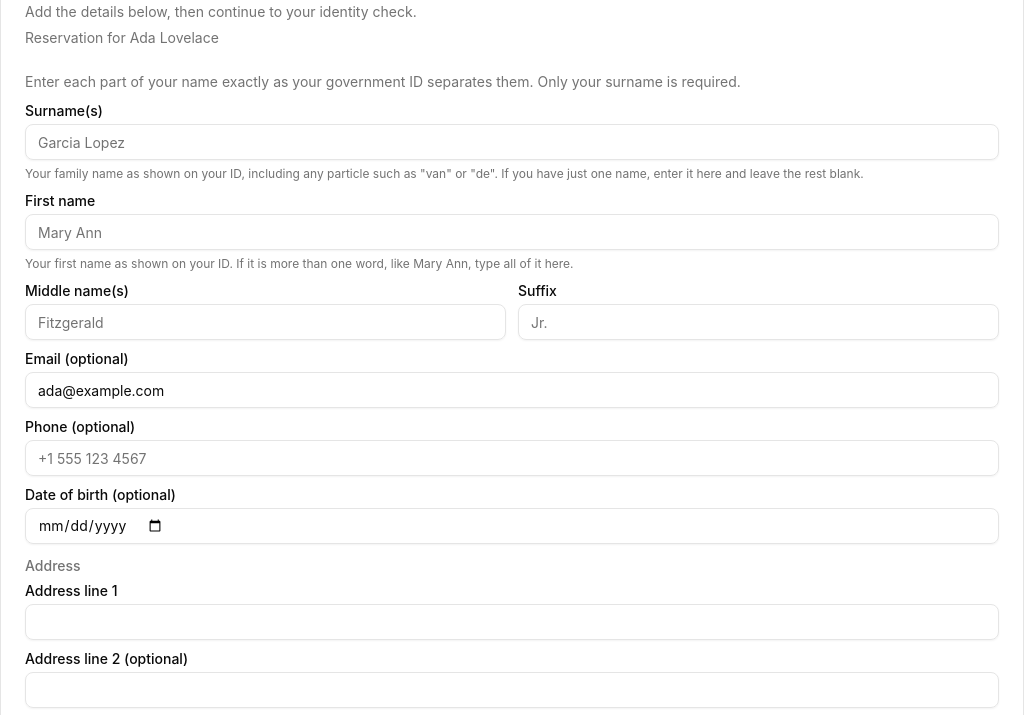
Test case: CheckInCollectForm › names the boxes to fill on a name_components_required rejection
The image size is (1024, 715).
Type "Lovelace" into the field labelled "Surname(s)" at (512, 142), box [25,124,999,160]
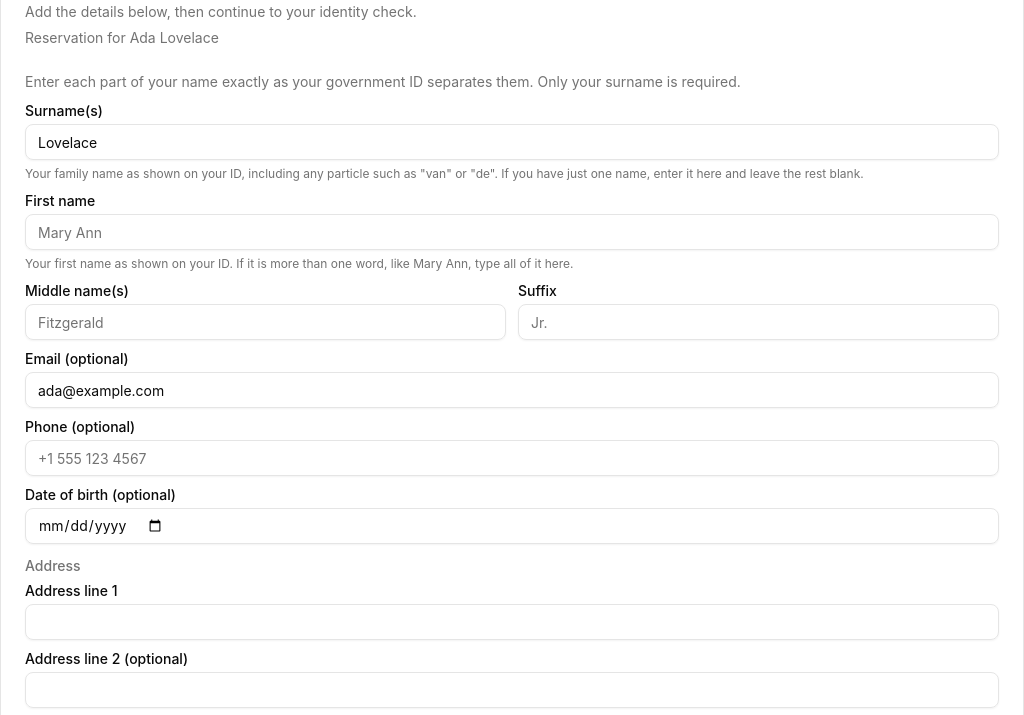
Type "Ada" into the field labelled "First name" at (512, 232), box [25,214,999,250]
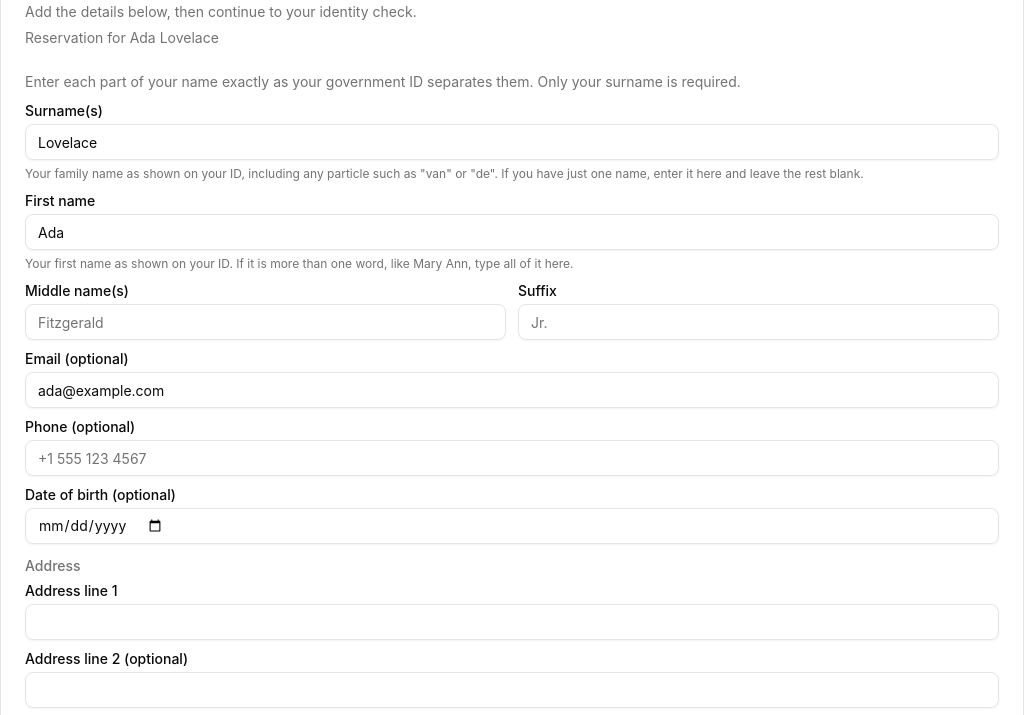
Type "1 Analytical Way" into the field labelled "Address line 1" at (512, 622), box [25,604,999,640]
(page scrolled)
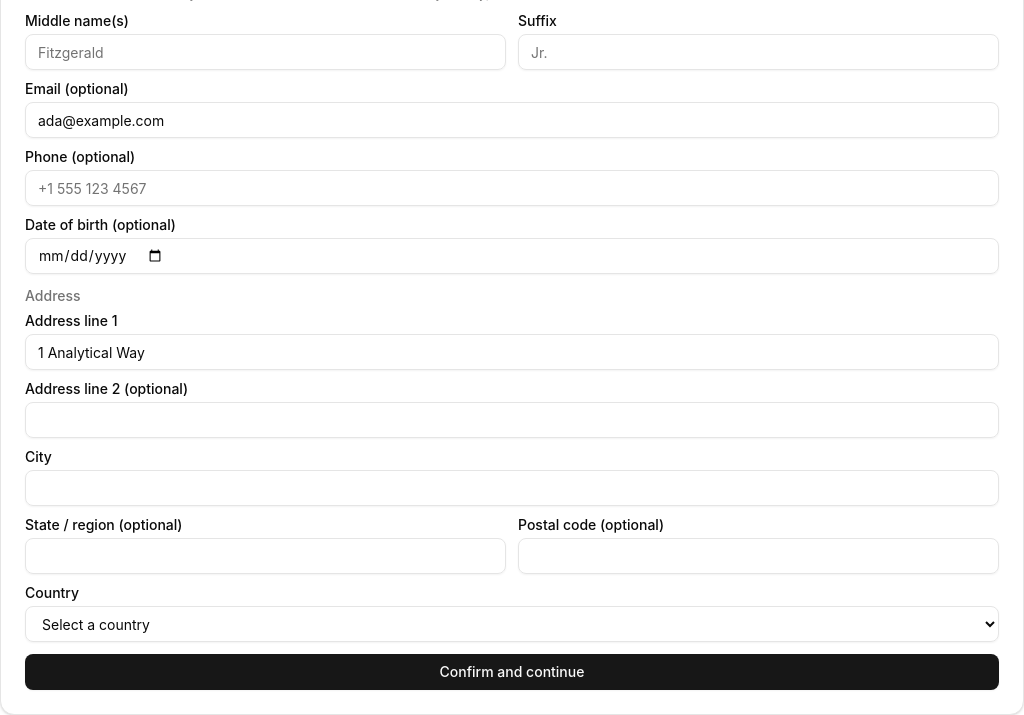
Type "London" into the field labelled "City" at (512, 488), box [25,470,999,506]
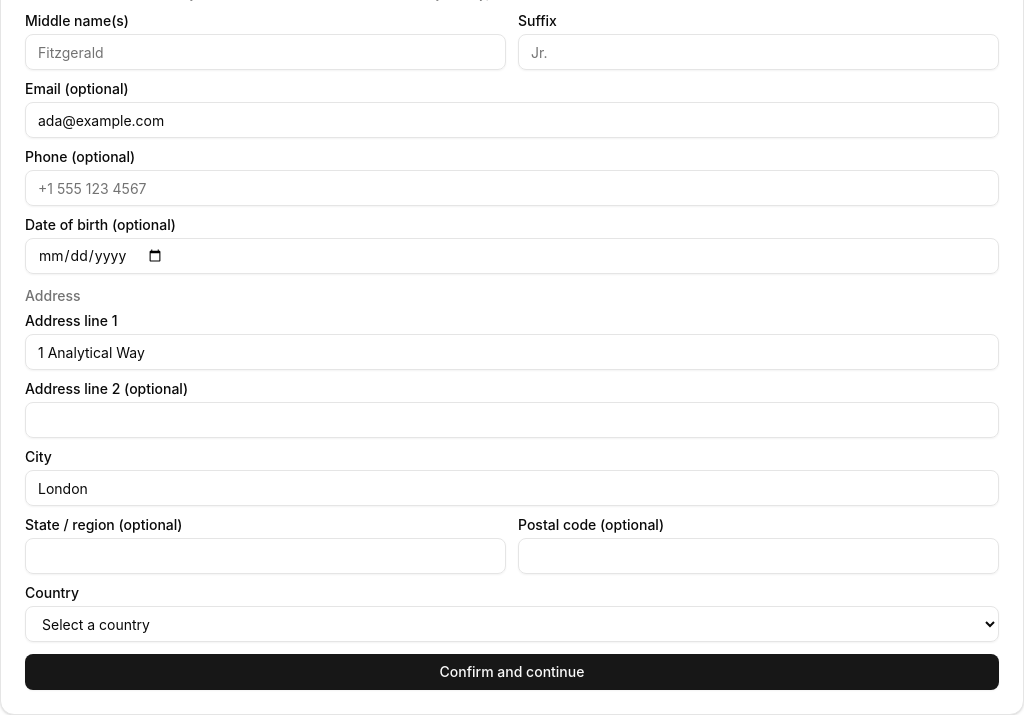
Select "United Kingdom" in the dropdown labelled "Country" at (512, 624), box [25,606,999,642]
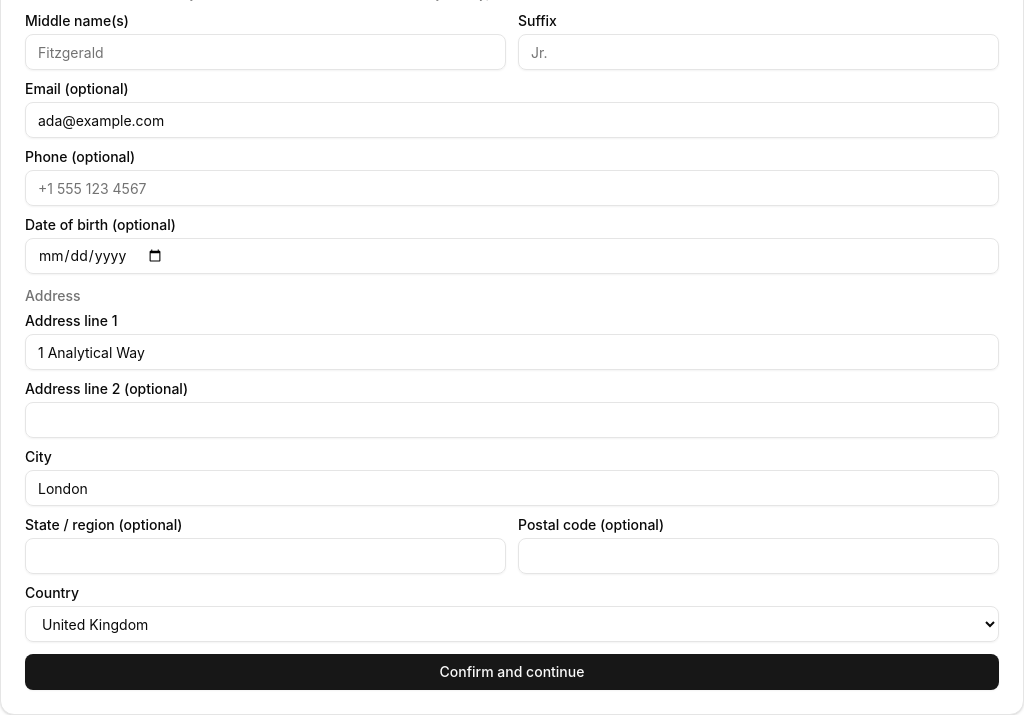
Click the button "Confirm and continue" at (512, 672), box [25,654,999,690]
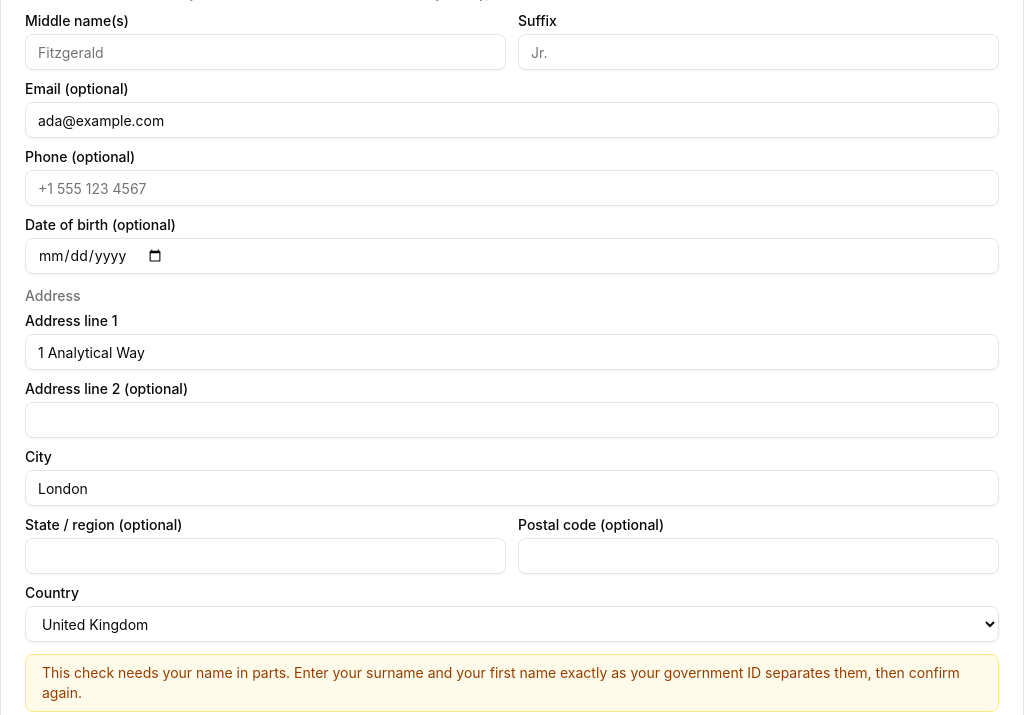
Expected: the message shows "needs your name in parts", [42,664,960,701]
Expected: the message shows "surname", [42,664,960,701]
Expected: the message shows "first name", [42,664,960,701]
